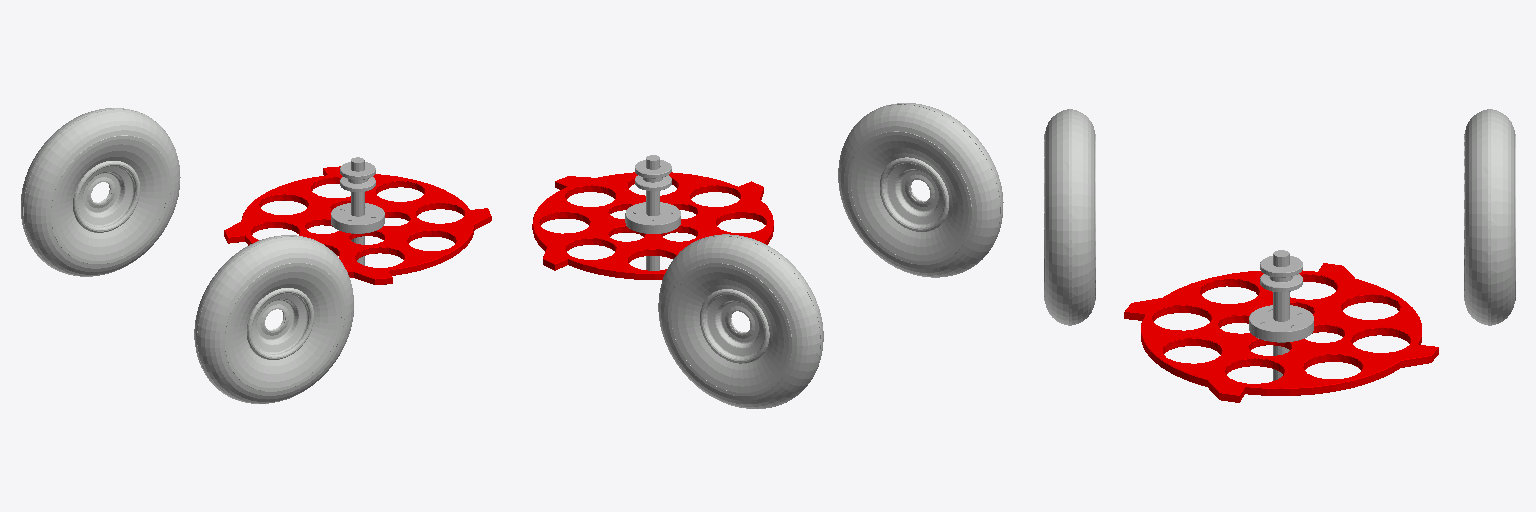
URDF robot description (robotti_1):
<?xml version="1.0" encoding="utf-8"?>
<!-- This URDF was automatically created by SolidWorks to URDF Exporter! Originally created by [author] ([email redacted]) 
     Commit Version: 1.5.1-0-g916b5db  Build Version: 1.5.7152.31018
     For more information, please see http://wiki.ros.org/sw_urdf_exporter -->
<robot
  name="robotti_1">
  <link
    name="base_link">
    <inertial>
      <origin
        xyz="-0.19471 0.00063105 0.090181"
        rpy="0 0 0" />
      <mass
        value="8.7074" />
      <inertia
        ixx="0.03503"
        ixy="5.3268E-07"
        ixz="-0.00016399"
        iyy="0.012664"
        iyz="4.135E-08"
        izz="0.042878" />
    </inertial>
    <visual>
      <origin
        xyz="0 0 0"
        rpy="0 0 0" />
      <geometry>
        <mesh
          filename="package://robotti_1/meshes/base_link.STL" />
      </geometry>
      <material
        name="">
        <color
          rgba="0.75294 0.75294 0.75294 1" />
      </material>
    </visual>
    <collision>
      <origin
        xyz="0 0 0"
        rpy="0 0 0" />
      <geometry>
        <mesh
          filename="package://robotti_1/meshes/base_hitbox.STL" />
      </geometry>
    </collision>
  </link>
  <link
    name="l_wheel_link">
    <inertial>
      <origin
        xyz="2.9698E-05 -0.0045616 -1.6964E-05"
        rpy="0 0 0" />
      <mass
        value="1.4926" />
      <inertia
        ixx="0.0047081"
        ixy="9.1511E-12"
        ixz="-4.8794E-09"
        iyy="0.0086484"
        iyz="1.6021E-11"
        izz="0.0047081" />
    </inertial>
    <visual>
      <origin
        xyz="0 0 0"
        rpy="0 0 0" />
      <geometry>
        <mesh
          filename="package://robotti_1/meshes/l_wheel_link.STL" />
      </geometry>
      <material
        name="">
        <color
          rgba="0.83137 0.83922 0.83137 1" />
      </material>
    </visual>
    <collision>
      <origin
        xyz="0 0 0"
        rpy="0 0 0" />
      <geometry>
        <mesh
          filename="package://robotti_1/meshes/l_wheel_link.STL" />
      </geometry>
    </collision>
  </link>
  <joint
    name="l_wheel_joint"
    type="continuous">
    <origin
      xyz="-0.20582 0.19763 0.099"
      rpy="0 0 0" />
    <parent
      link="base_link" />
    <child
      link="l_wheel_link" />
    <axis
      xyz="0 -1 0" />
  </joint>
  <link
    name="r_wheel_link">
    <inertial>
      <origin
        xyz="1.039E-05 -0.0045616 -3.2585E-05"
        rpy="0 0 0" />
      <mass
        value="1.4926" />
      <inertia
        ixx="0.0047081"
        ixy="1.7578E-11"
        ixz="-3.279E-09"
        iyy="0.0086484"
        iyz="5.6048E-12"
        izz="0.0047081" />
    </inertial>
    <visual>
      <origin
        xyz="0 0 0"
        rpy="0 0 0" />
      <geometry>
        <mesh
          filename="package://robotti_1/meshes/r_wheel_link.STL" />
      </geometry>
      <material
        name="">
        <color
          rgba="0.83137 0.83922 0.83137 1" />
      </material>
    </visual>
    <collision>
      <origin
        xyz="0 0 0"
        rpy="0 0 0" />
      <geometry>
        <mesh
          filename="package://robotti_1/meshes/r_wheel_link.STL" />
      </geometry>
    </collision>
  </link>
  <joint
    name="r_wheel_joint"
    type="continuous">
    <origin
      xyz="-0.20582 -0.18936 0.099"
      rpy="0 0 0" />
    <parent
      link="base_link" />
    <child
      link="r_wheel_link" />
    <axis
      xyz="0 -1 0" />
  </joint>
  <link
    name="weapon_link">
    <inertial>
      <origin
        xyz="-2.387E-15 -1.1102E-15 0.024839"
        rpy="0 0 0" />
      <mass
        value="0.067649" />
      <inertia
        ixx="4.6255E-05"
        ixy="-4.4117E-10"
        ixz="2.2164E-19"
        iyy="4.6255E-05"
        iyz="9.9394E-20"
        izz="1.6891E-05" />
    </inertial>
    <visual>
      <origin
        xyz="0 0 0"
        rpy="0 0 0" />
      <geometry>
        <mesh
          filename="package://robotti_1/meshes/weapon_link.STL" />
      </geometry>
      <material
        name="">
        <color
          rgba="0.75294 0.75294 0.75294 1" />
      </material>
    </visual>
    <collision>
      <origin
        xyz="0 0 0"
        rpy="0 0 0" />
      <geometry>
        <mesh
          filename="package://robotti_1/meshes/weapon_link.STL" />
      </geometry>
    </collision>
  </link>
  <joint
    name="weapon_joint"
    type="fixed">
    <origin
      xyz="0.01418 0.001 0.08"
      rpy="0 0 0" />
    <parent
      link="base_link" />
    <child
      link="weapon_link" />
    <axis
      xyz="0 0 0" />
  </joint>
  <link
    name="weapon_blade_link">
    <inertial>
      <origin
        xyz="2.9421E-15 -2.3037E-15 0.004"
        rpy="0 0 0" />
      <mass
        value="1.9334" />
      <inertia
        ixx="0.0095088"
        ixy="1.0612E-16"
        ixz="3.255E-16"
        iyy="0.0095088"
        iyz="1.1268E-16"
        izz="0.018997" />
    </inertial>
    <visual>
      <origin
        xyz="0 0 0"
        rpy="0 0 0" />
      <geometry>
        <mesh
          filename="package://robotti_1/meshes/weapon_blade_link.STL" />
      </geometry>
      <material
        name="">
        <color
          rgba="1 0 0 1" />
      </material>
    </visual>
    <collision>
      <origin
        xyz="0 0 0"
        rpy="0 0 0" />
      <geometry>
        <mesh
          filename="package://robotti_1/meshes/weapon_blade_hitbox.STL" />
      </geometry>
    </collision>
  </link>
  <joint
    name="weapon_blade_joint"
    type="continuous">
    <origin
      xyz="0 0 0"
      rpy="0 0 0" />
    <parent
      link="weapon_link" />
    <child
      link="weapon_blade_link" />
    <axis
      xyz="0 0 1" />
  </joint>
</robot>

--- What the picture shows (computed from the rendered views, not written in the file) ---
The picture shows the robot from 3 angles, left to right: view 1: azimuth 30°, elevation 25°; view 2: azimuth 150°, elevation 25°; view 3: azimuth 270°, elevation 25°; orthographic projection.
Model robotti_1 with 5 links and 4 joints (3 continuous, 1 fixed), rooted at base_link, posed every joint at zero.
Visible links, largest first — view 1: r_wheel_link, l_wheel_link, weapon_blade_link, weapon_link; view 2: l_wheel_link, r_wheel_link, weapon_blade_link, weapon_link; view 3: weapon_blade_link, l_wheel_link, r_wheel_link, weapon_link.
Link boxes in pixels (<box>): r_wheel_link: <box>194,235,353,403</box>; l_wheel_link: <box>21,108,180,276</box>; weapon_blade_link: <box>224,166,491,284</box>; weapon_link: <box>331,157,384,265</box>; l_wheel_link: <box>658,234,823,408</box>; r_wheel_link: <box>838,103,1003,277</box>; weapon_blade_link: <box>532,172,773,279</box>; weapon_link: <box>625,155,680,270</box>; weapon_blade_link: <box>1124,263,1438,402</box>; l_wheel_link: <box>1464,109,1515,325</box>; r_wheel_link: <box>1044,109,1095,325</box>; weapon_link: <box>1249,250,1313,380</box>.
Size in the robot's own frame: 0.4649 by 0.4342 by 0.1999 metres.
Meshes: 5 distinct files referenced, 4 mesh visuals loaded (4 binary STL); not drawn: 1 (reference not matched to a file when rendering).
